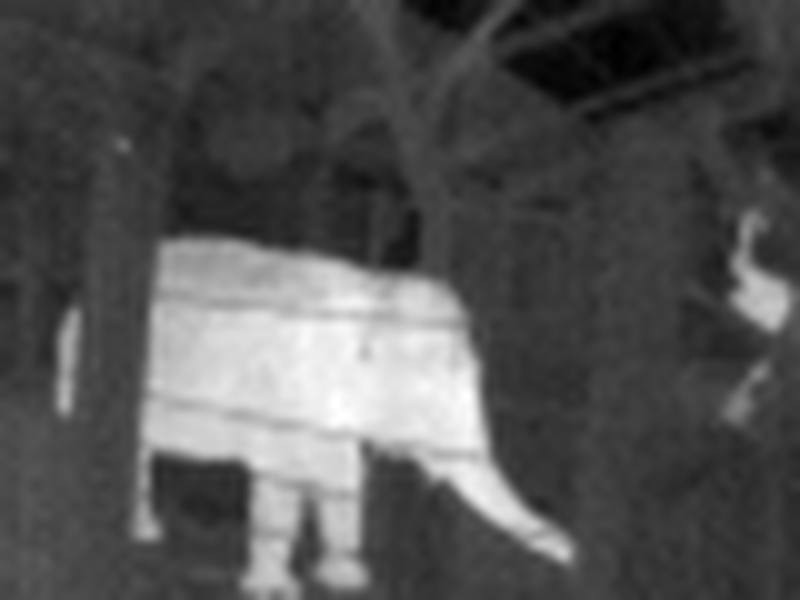elephant: (37, 218, 595, 588)
